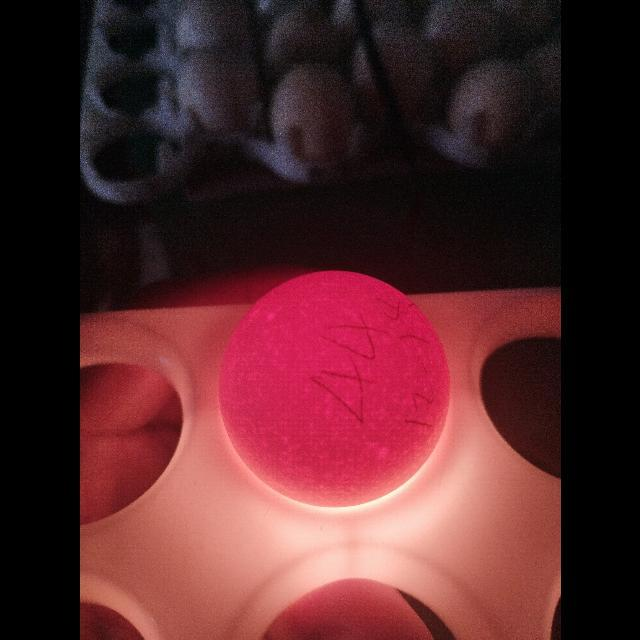Infertile: (215, 266, 453, 512)
